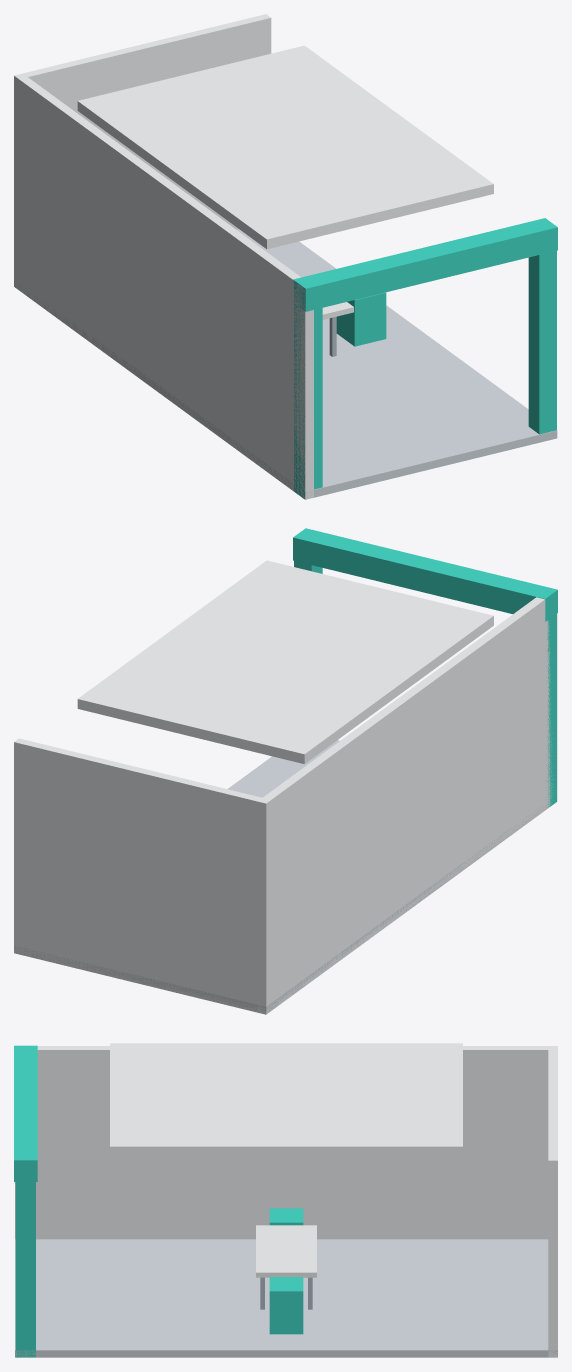
3 renders of one model, top to bottom at view 1: azimuth 30°, elevation 25°; view 2: azimuth 150°, elevation 25°; view 3: azimuth 270°, elevation 25°, orthographic. The views are drawn at different scales.
Visible parts, largest first — view 1: Exhibition Booth Concept; view 2: Exhibition Booth Concept; view 3: Exhibition Booth Concept.
Boxes of the visible parts, box(x1,y1,x2,y2) form: Exhibition Booth Concept: box(14, 14, 557, 499); Exhibition Booth Concept: box(14, 528, 557, 1014); Exhibition Booth Concept: box(14, 1043, 557, 1357).
Bounding box in the file's own units: 4 × 3.34 × 8.01.
